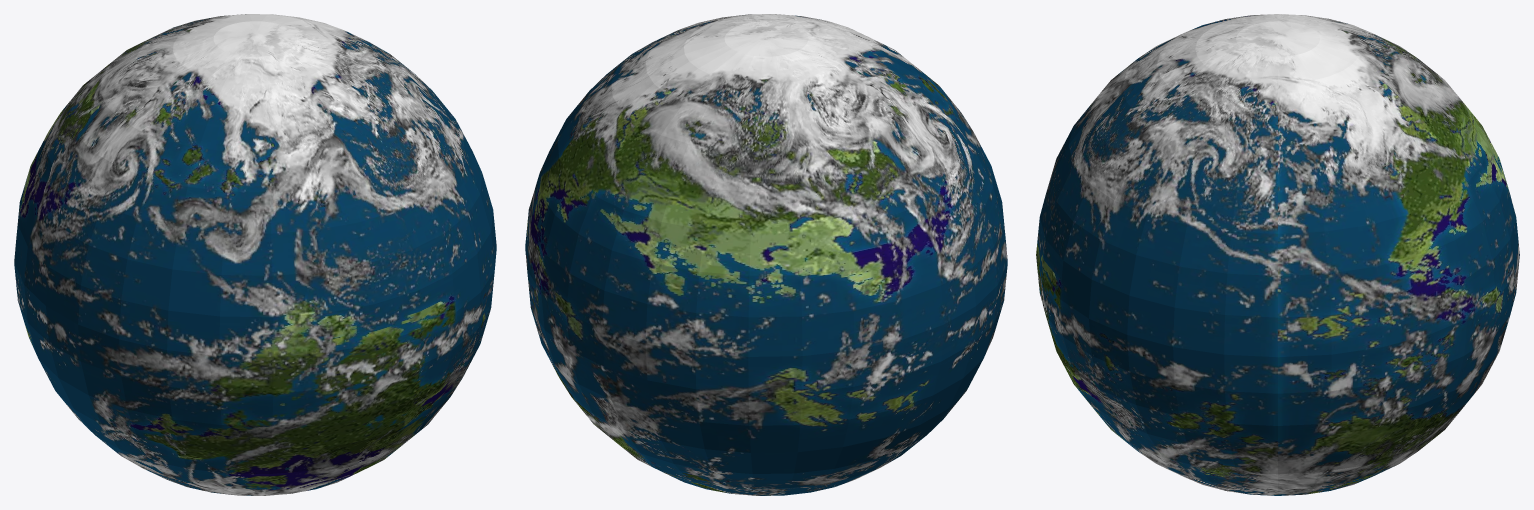
The model's file is gaea.glb.
3 renders of one model, left to right at view 1: azimuth 30°, elevation 25°; view 2: azimuth 150°, elevation 25°; view 3: azimuth 270°, elevation 25°, orthographic.
Visible parts, largest first — view 1: church_of_man_sphere.obj; view 2: church_of_man_sphere.obj; view 3: church_of_man_sphere.obj.
Boxes of the visible parts, <box> form: church_of_man_sphere.obj: <box>14,14,496,495</box>; church_of_man_sphere.obj: <box>525,14,1007,495</box>; church_of_man_sphere.obj: <box>1036,14,1519,495</box>.
Bounding box in the file's own units: 2 × 2 × 2.
Materials: 1 (1 with a texture image).
